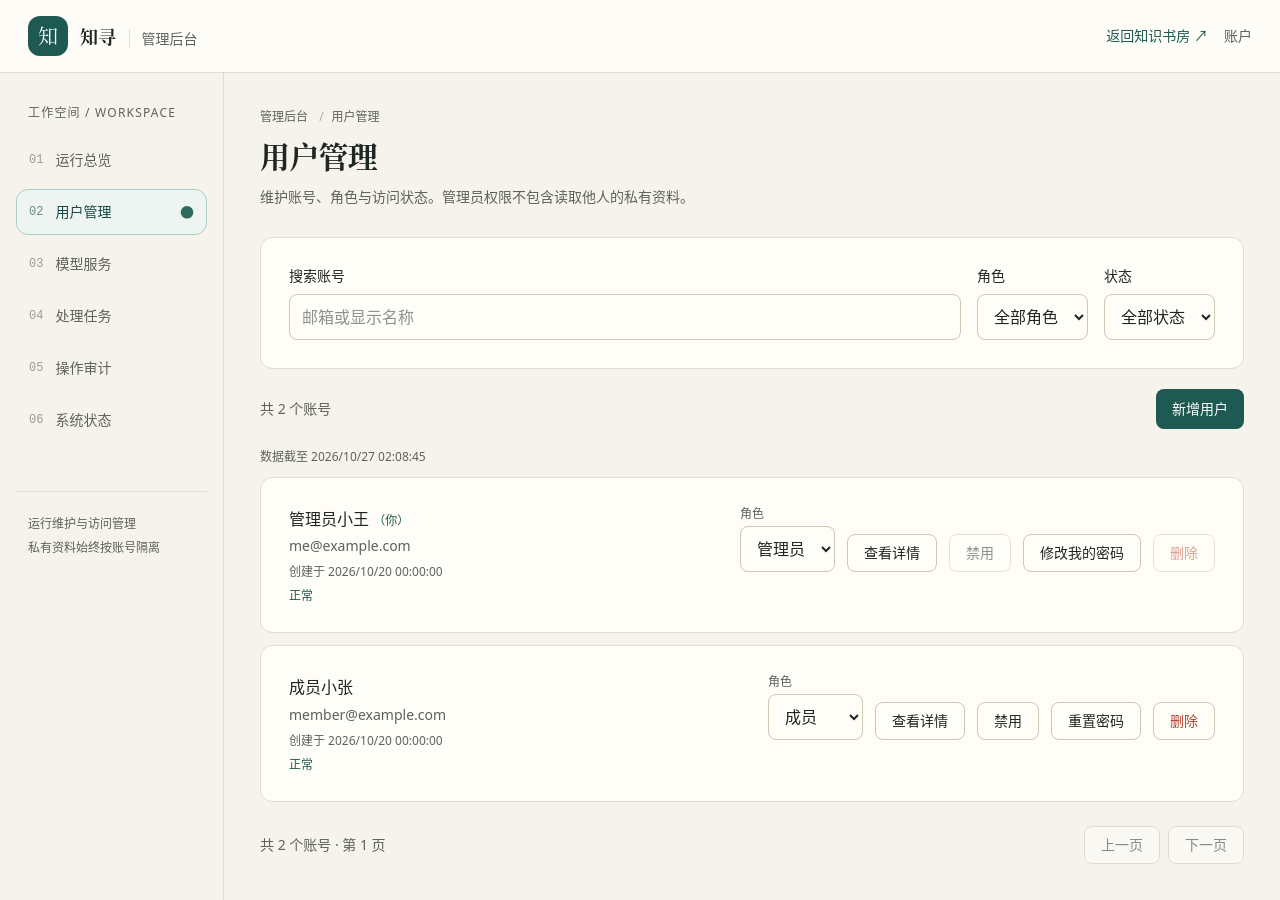
AdminUsersView › 禁用账号经确认后更新状态
Expected: the list item with test id "admin-user-row" that starts with "成员小张" is shown, [260, 645, 1244, 802]
Click the button with test id "status-toggle" in the row of "member@example.com": click(1008, 721) [977, 702, 1039, 740]
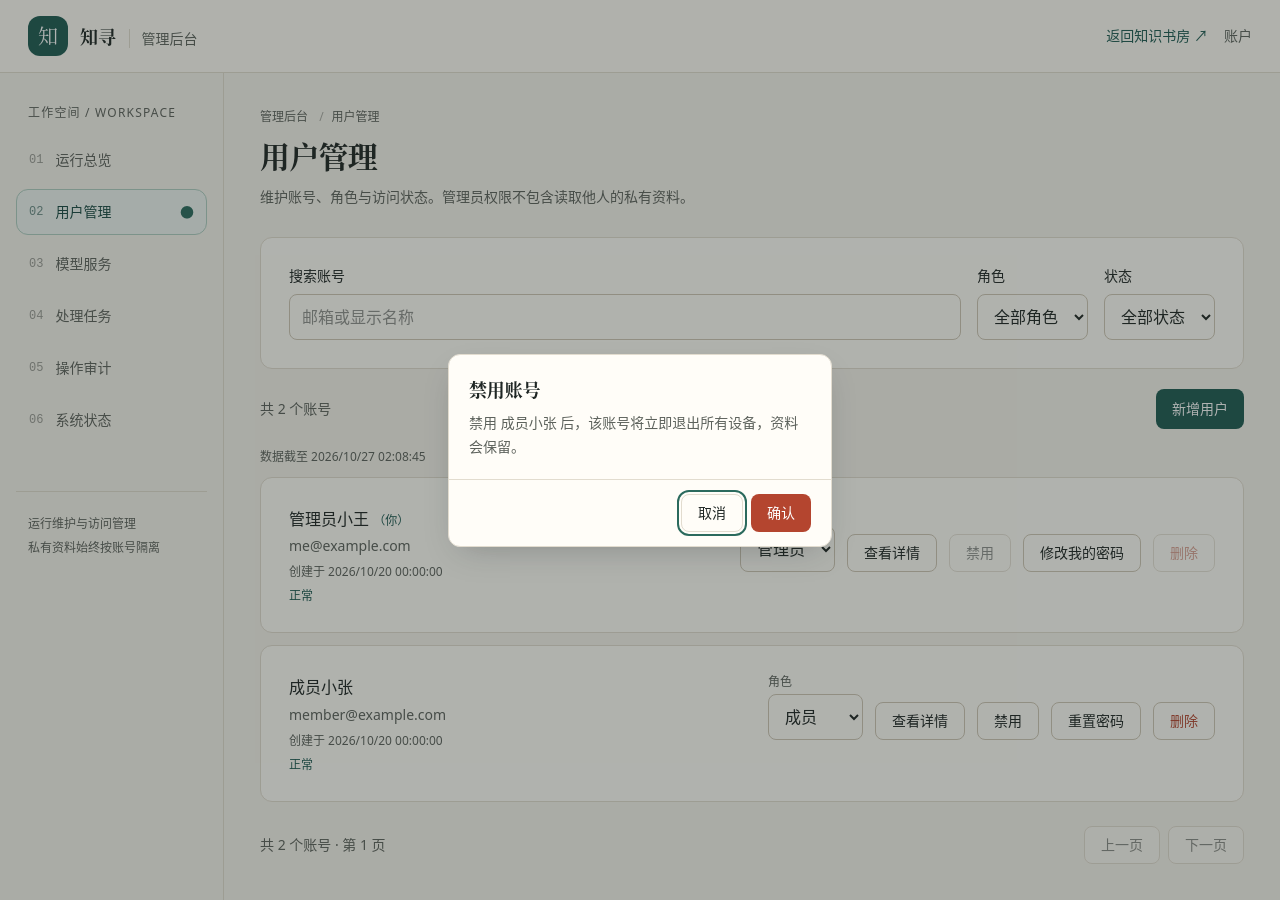
Now the button with test id "confirm-dialog-confirm-btn" is shown
Click the button with test id "confirm-dialog-confirm-btn": click(781, 512) [751, 494, 811, 532]
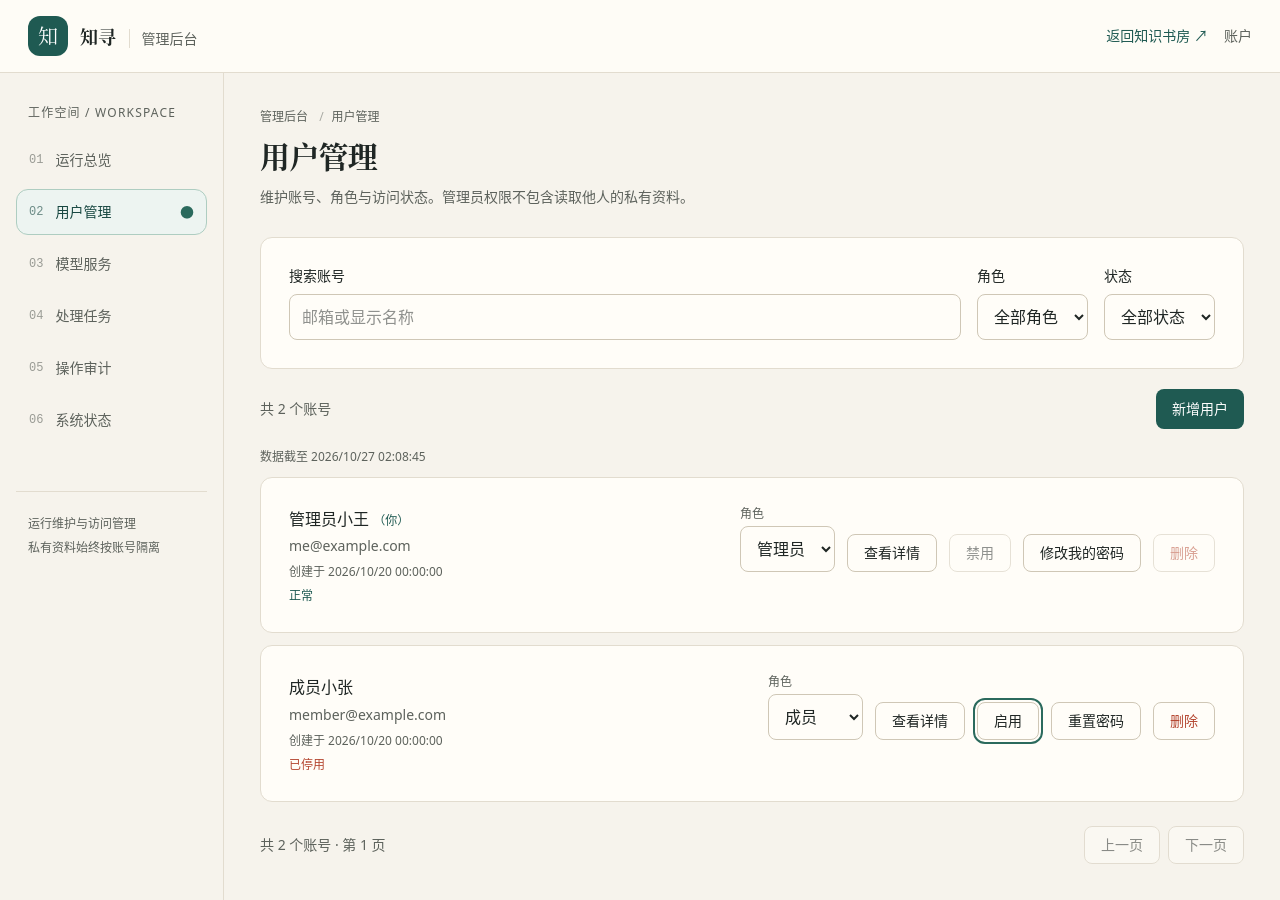
Expected: the list item with test id "admin-user-row" that starts with "成员小张" is shown, [260, 645, 1244, 802]
Now the list item with test id "admin-user-row" shows "已停用", box [289, 756, 325, 773]
